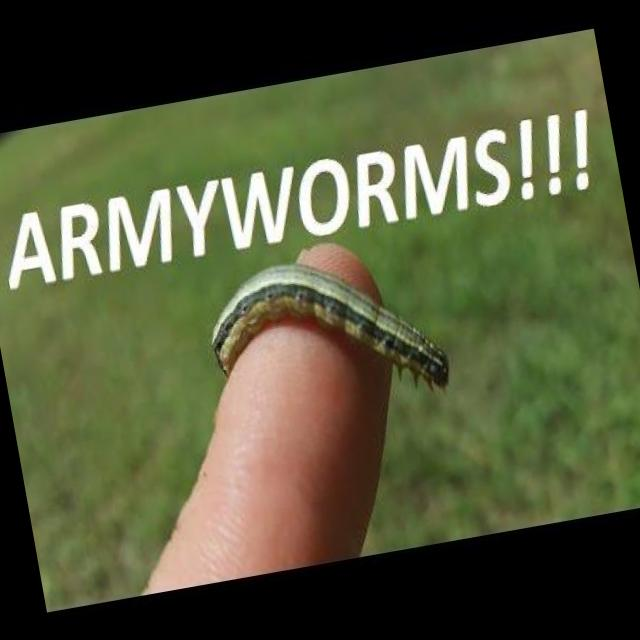armyworm: (193, 234, 468, 442)
